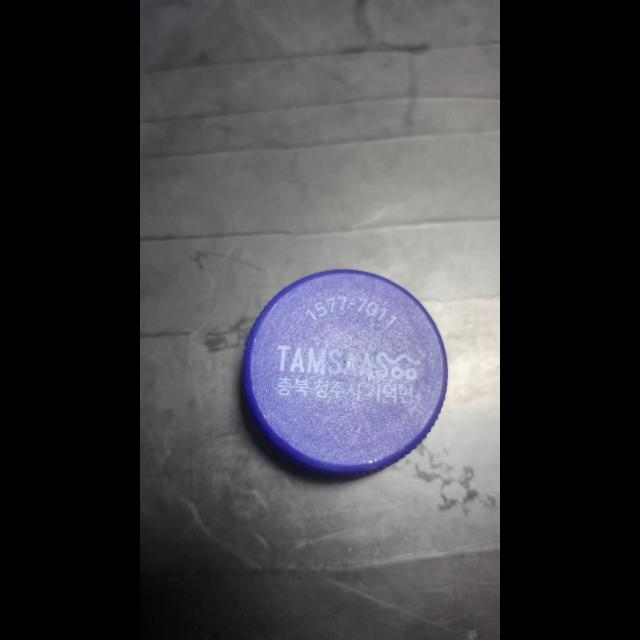plastic_bottle_cap: (239, 262, 453, 480)
